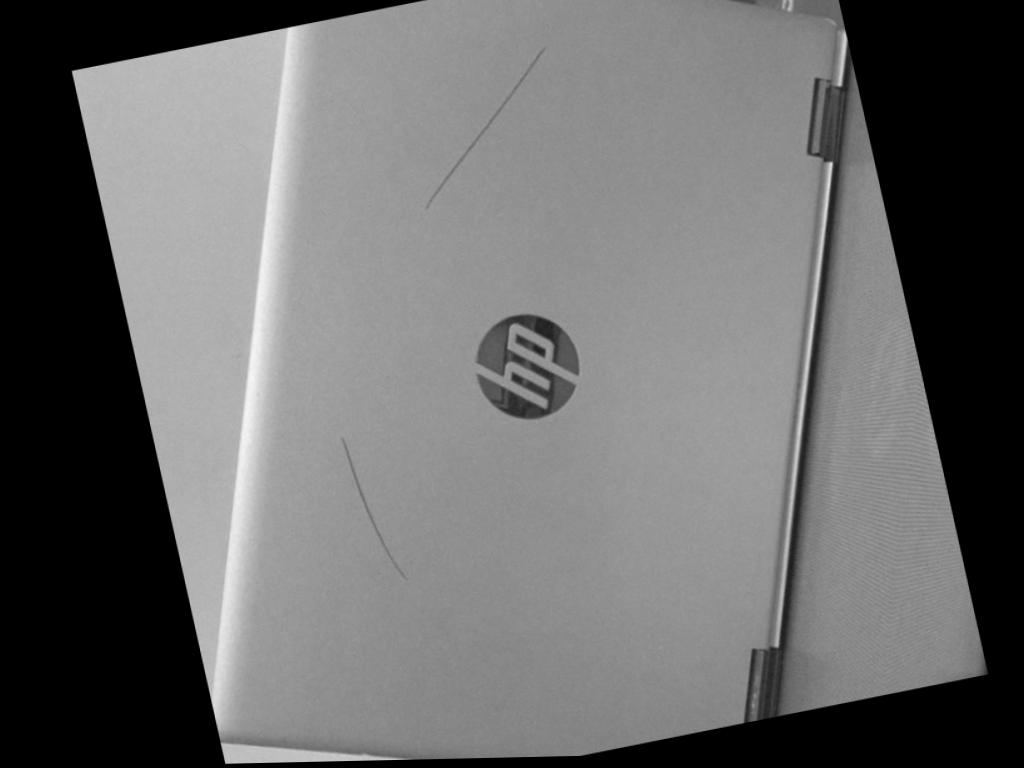scratch: (422, 49, 544, 213), (336, 439, 401, 584)
